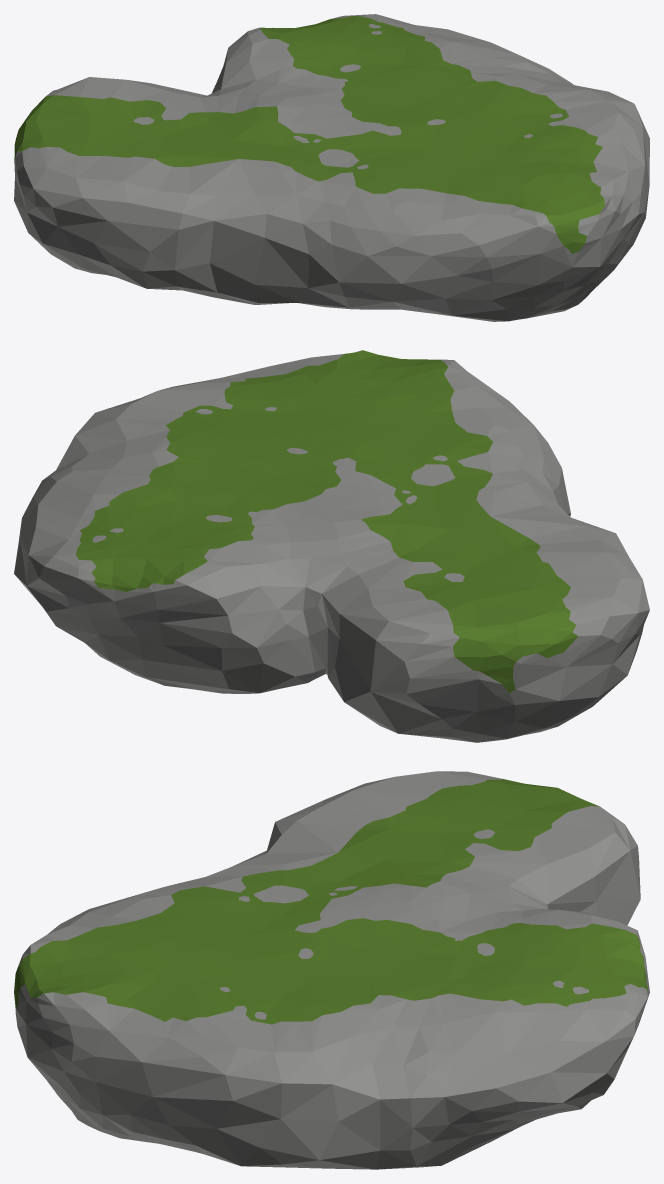
Rendered from Cavern_FloorGrass_Narrow_Intersection-01.fbx.
3 views of the same model, one above another, from view 1: azimuth 30°, elevation 25°; view 2: azimuth 150°, elevation 25°; view 3: azimuth 270°, elevation 25° (orthographic). The views are drawn at different scales.
Parts seen in each view (by area): view 1: Cavern_FloorGrass_Narrow_Intersection-01; view 2: Cavern_FloorGrass_Narrow_Intersection-01; view 3: Cavern_FloorGrass_Narrow_Intersection-01.
Boxes of the visible parts, x1=… form: Cavern_FloorGrass_Narrow_Intersection-01: x1=14, y1=14, x2=649, y2=321; Cavern_FloorGrass_Narrow_Intersection-01: x1=14, y1=350, x2=649, y2=742; Cavern_FloorGrass_Narrow_Intersection-01: x1=14, y1=771, x2=649, y2=1169.
Size of the model in its own units: 1987 by 499 by 1737.
1 material, 1 textured.
